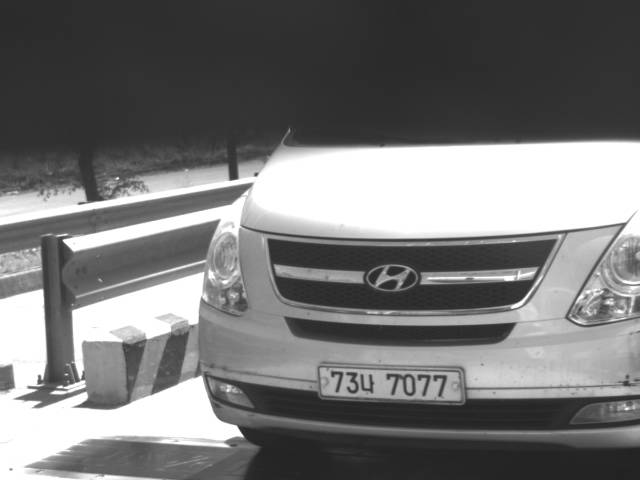car: (194, 108, 640, 461)
plate: (316, 363, 467, 405)
